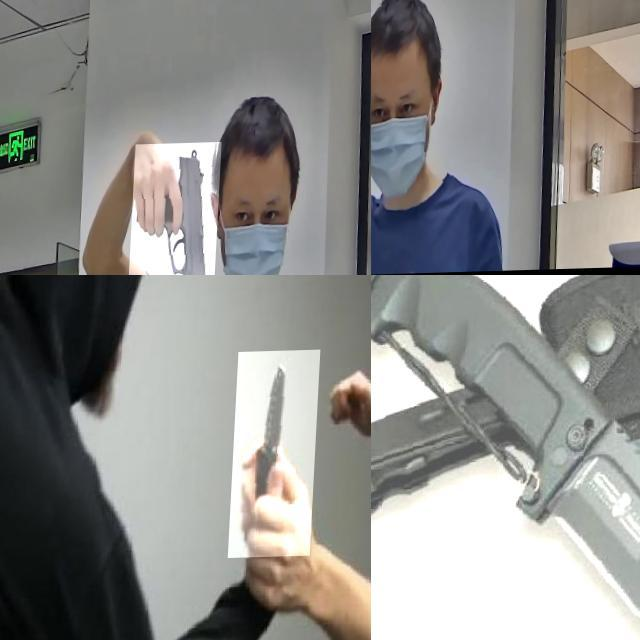-: (371, 275, 640, 640), (232, 352, 322, 560)
gun-knife-thesis - v11 Yolov5 augmented: (132, 144, 225, 275), (371, 60, 393, 179)
